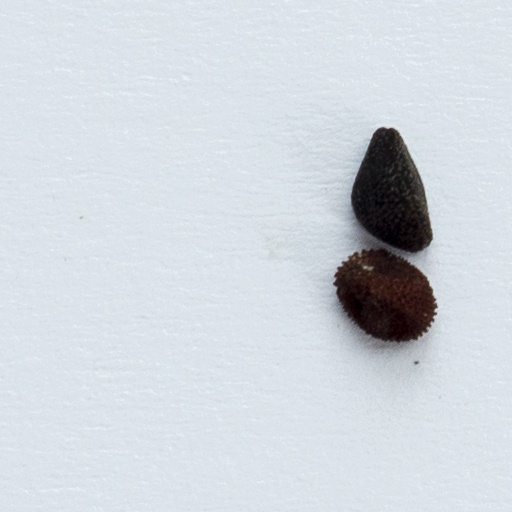Agrostemma-poly: (332, 249, 439, 346)
Convolvulus-poly: (347, 127, 433, 255)
